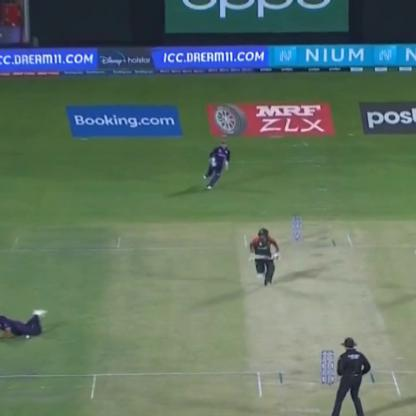pitch: (241, 220, 408, 416)
